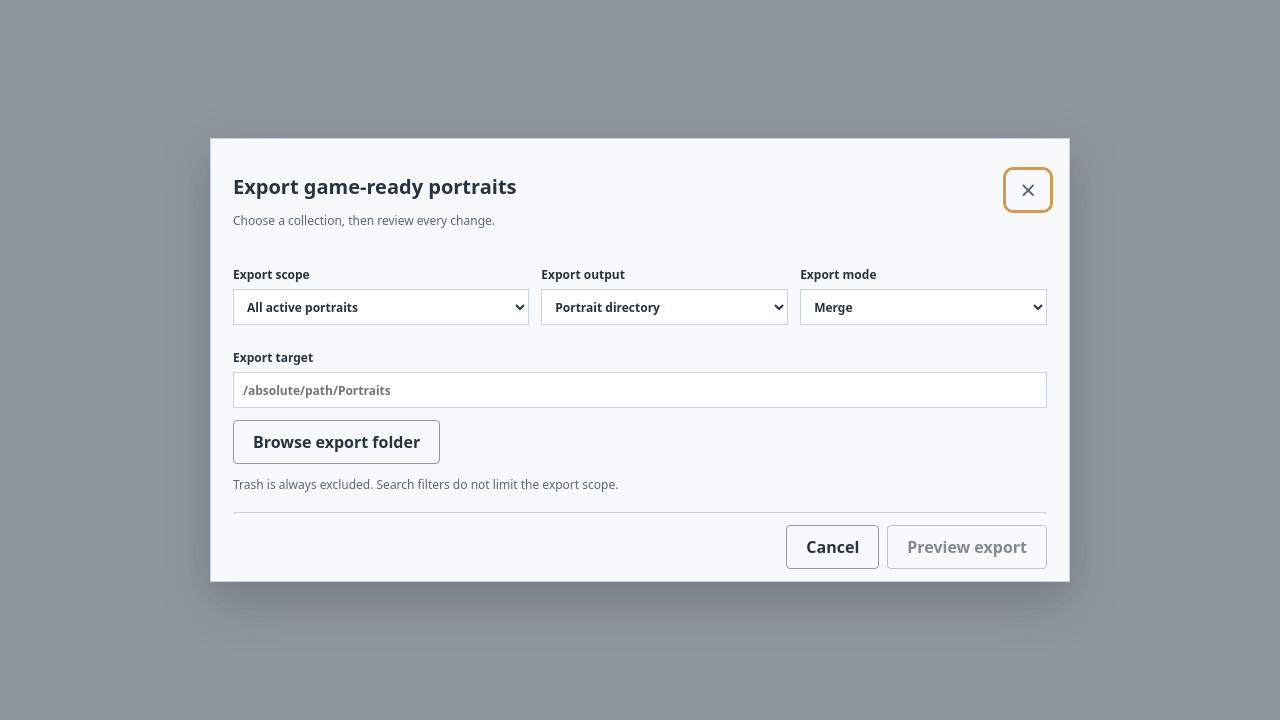
Test case: editing target retires the preview
In the field labelled "Export target": (640,390) x1=233 y1=372 x2=1047 y2=408, type "/tmp/Portraits"
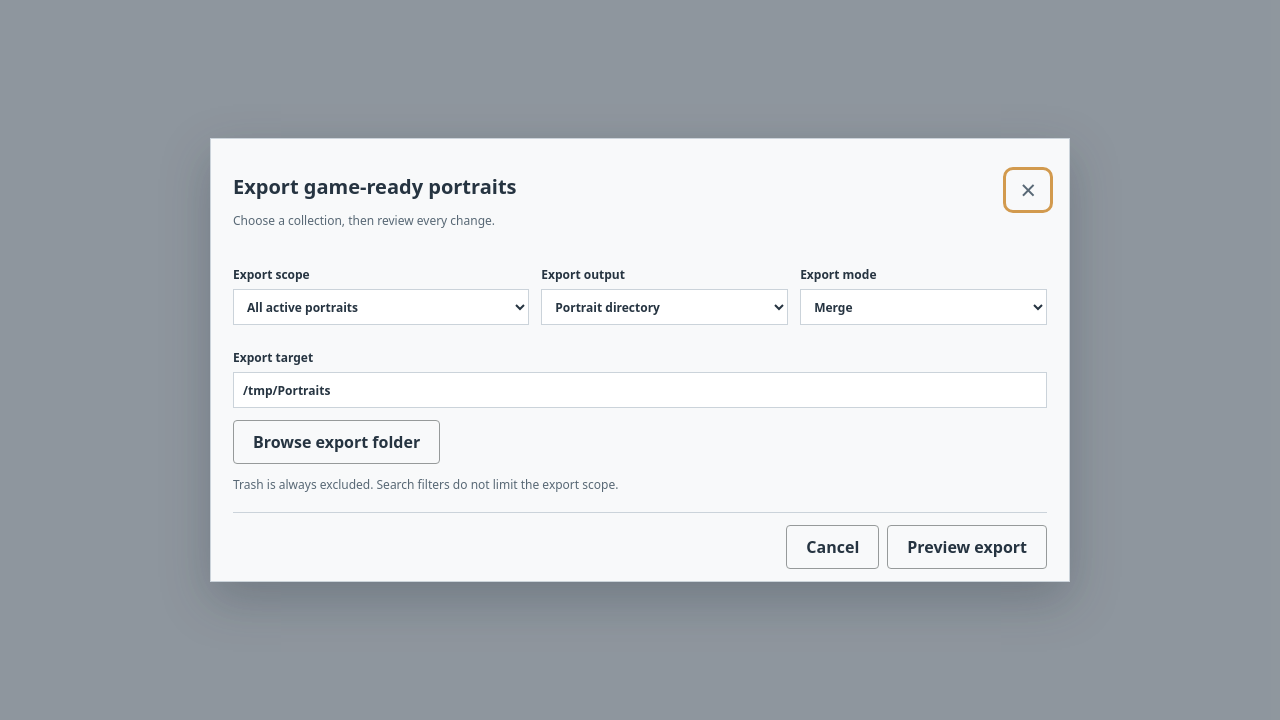
Click the button "Preview export": (967,547) x1=887 y1=525 x2=1047 y2=569
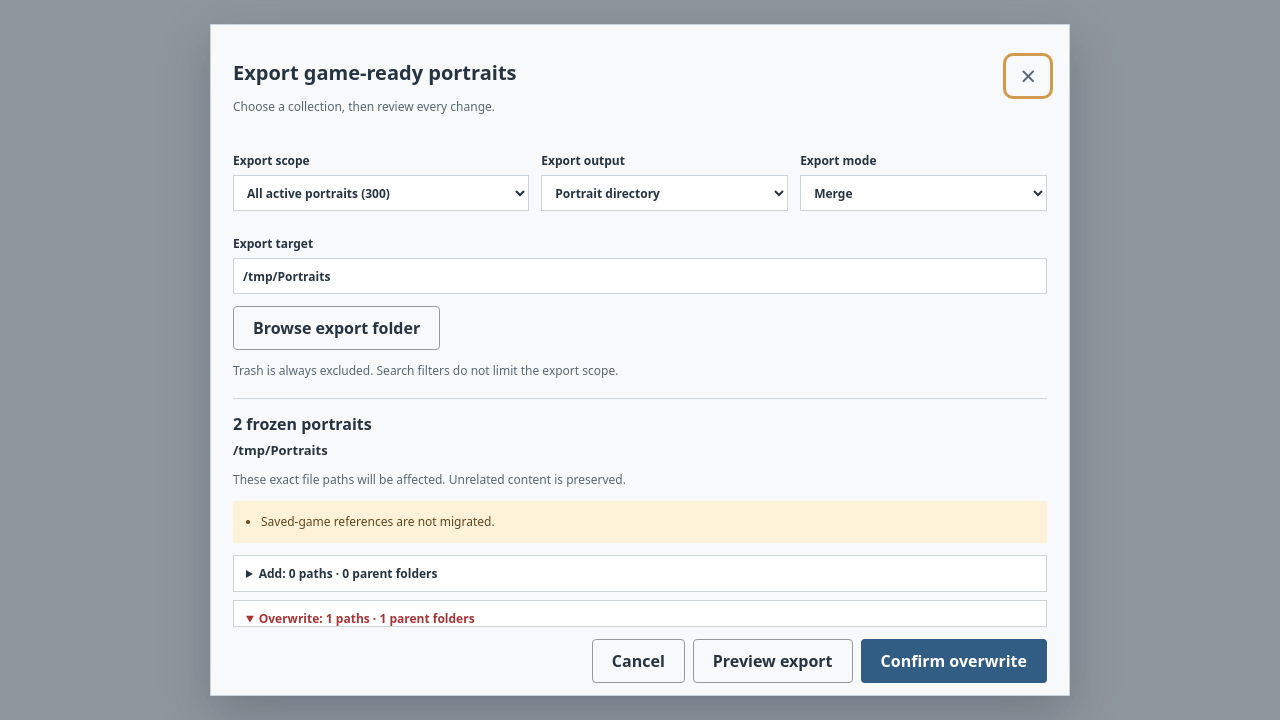
Result: the heading "2 frozen portraits" is shown at x1=233 y1=413 x2=372 y2=435
Replace the text in the field labelled "Export target" with "/tmp/other": (640,276) x1=233 y1=258 x2=1047 y2=294
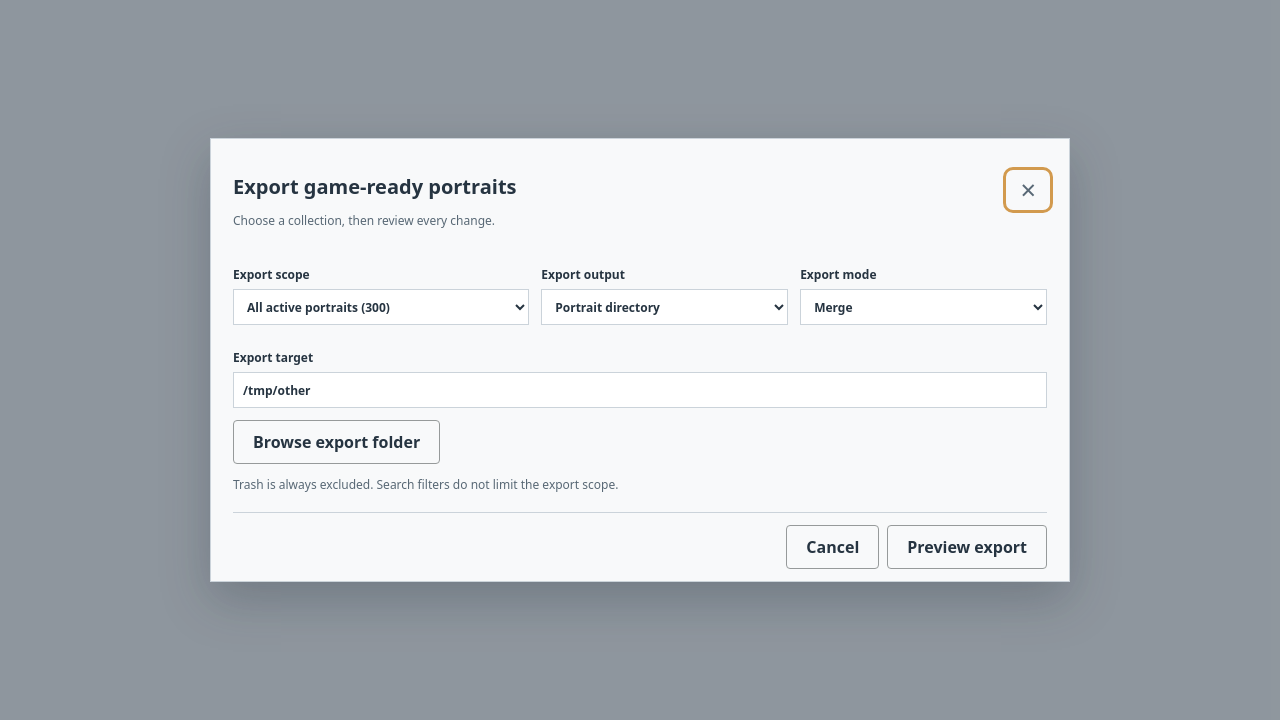
Result: the heading "2 frozen portraits" is gone
